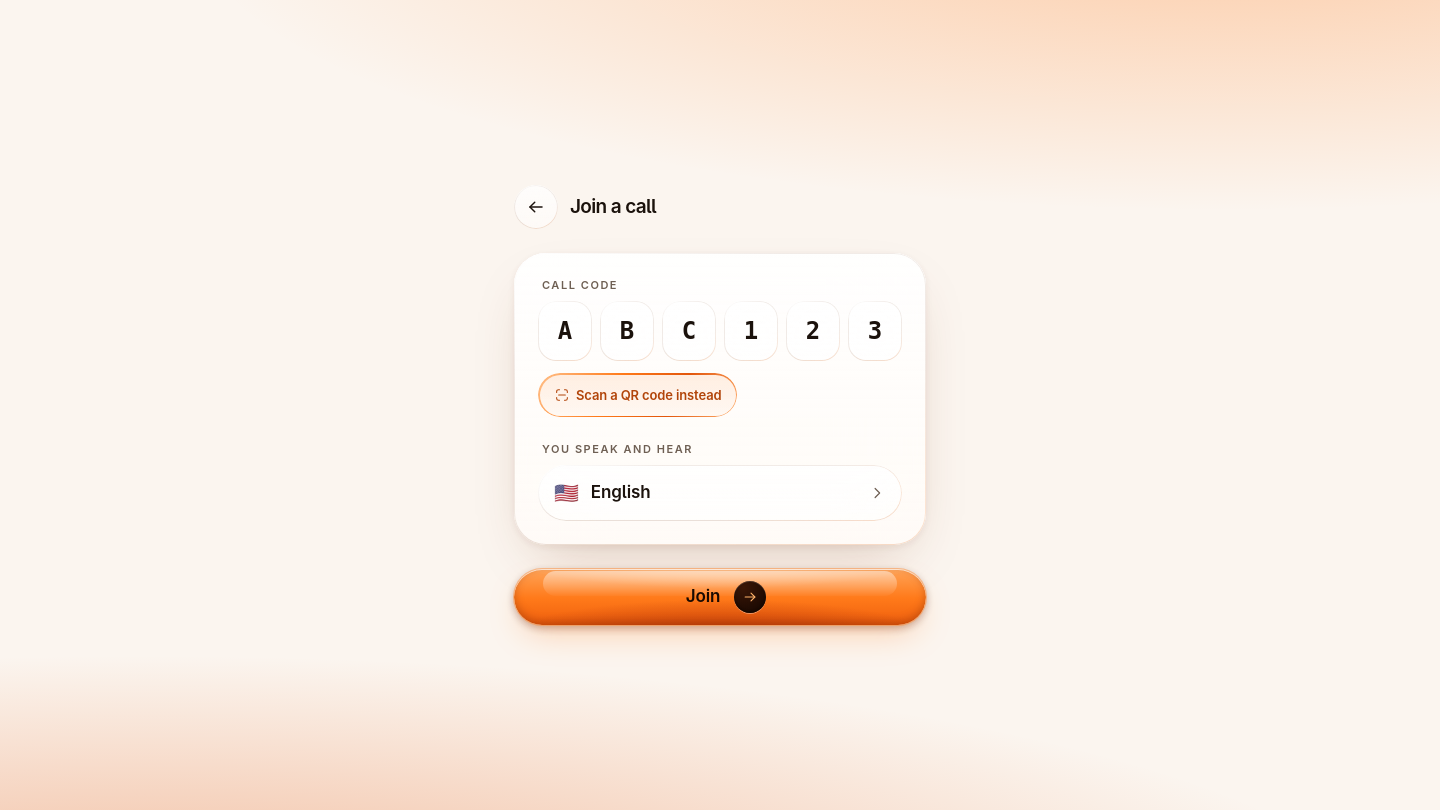
Test: JoinCall › shows "full" only for session_full, and a distinct message for other errors
Click the button "Join". click: (720, 597)
box: [514,569,926,625]
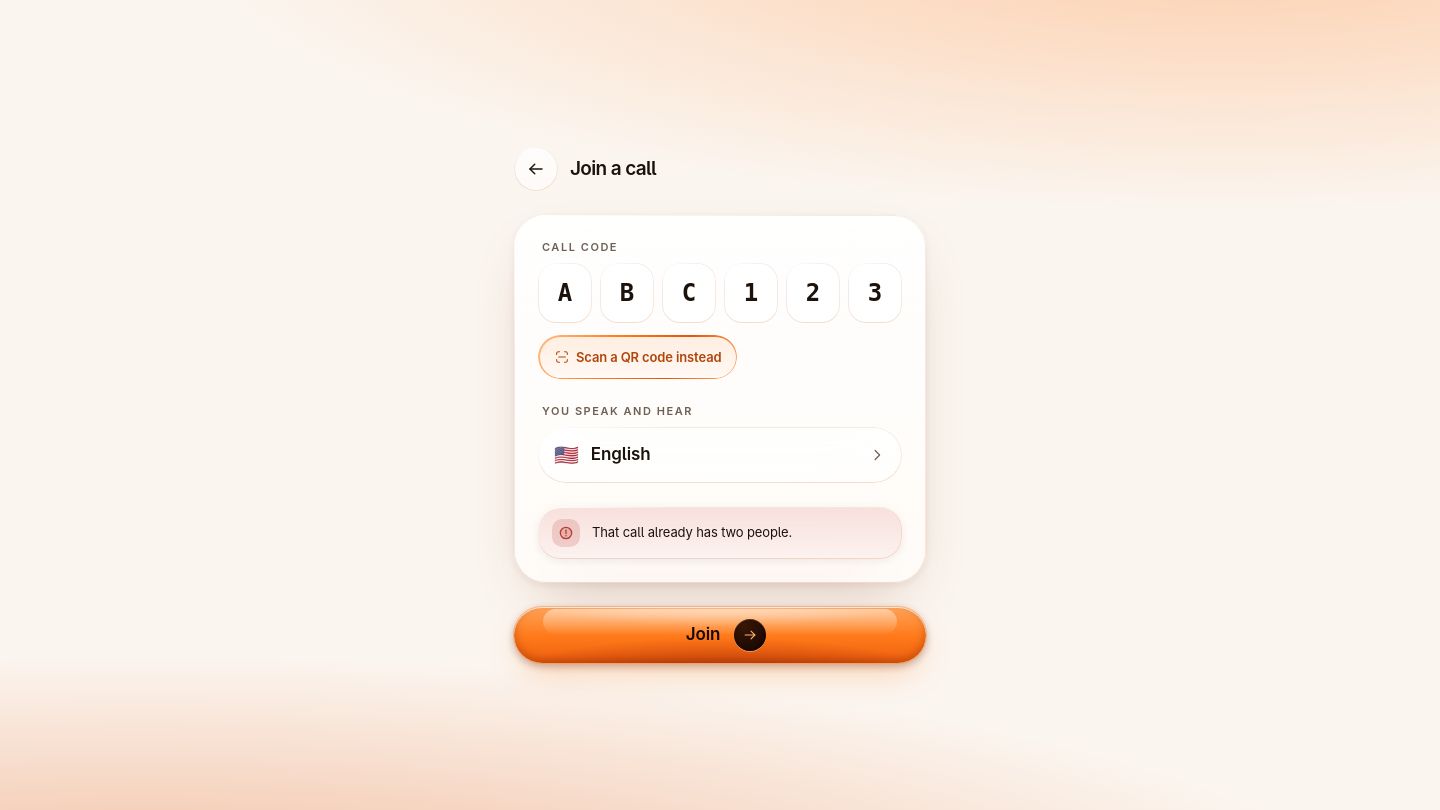
Result: the message shows "already has two people" at [592,524,792,540]
Click the button "Join". click: (720, 635)
box: [514,607,926,663]
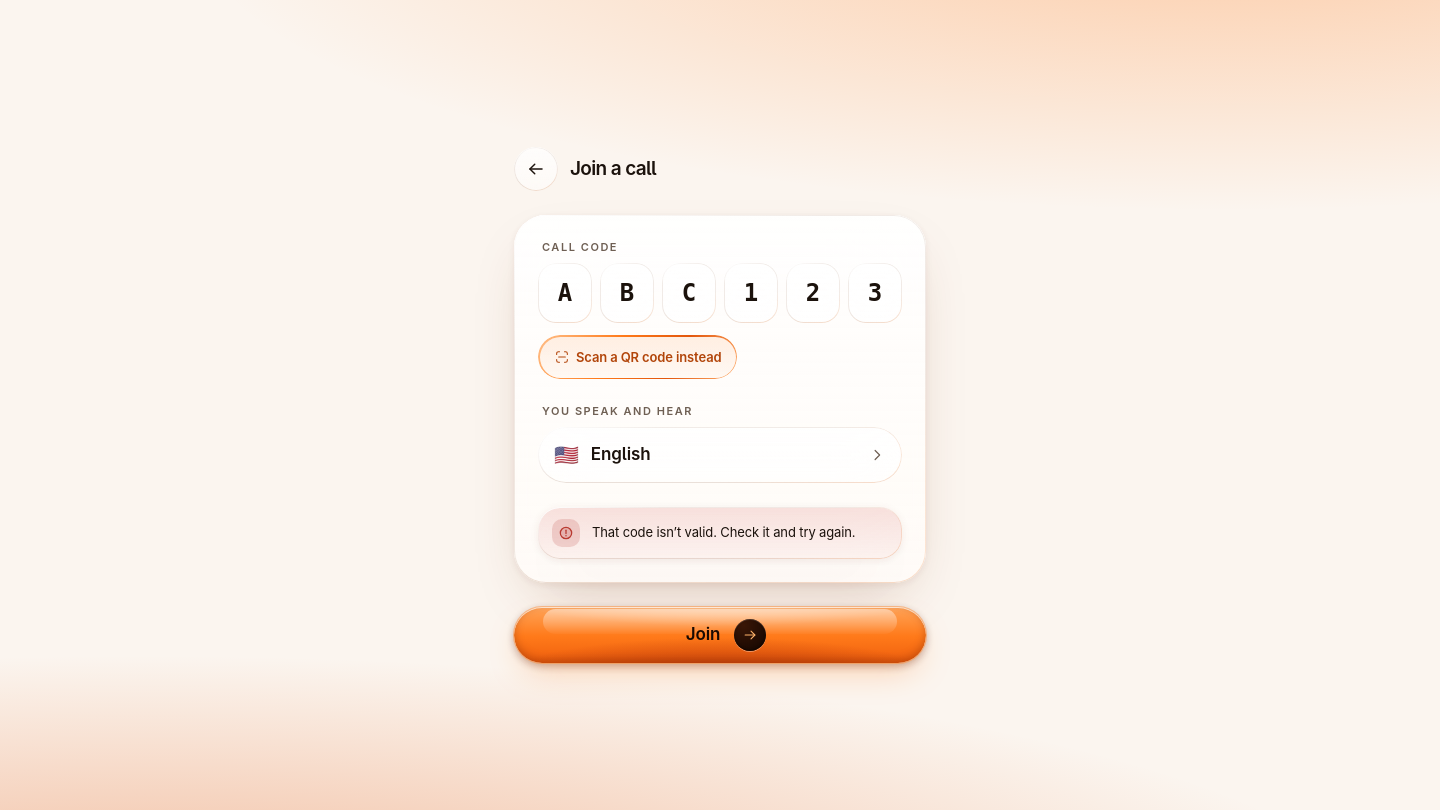
Result: the message shows "isn’t valid" at [592,524,856,540]
